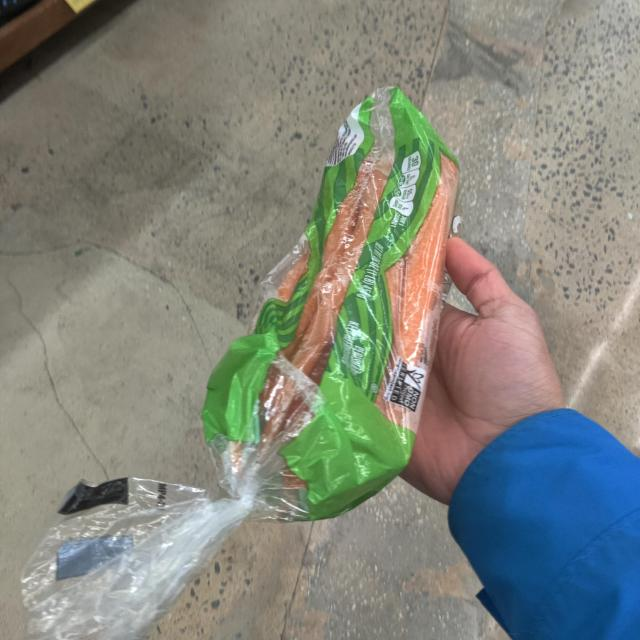Carrots: (217, 88, 466, 508)
